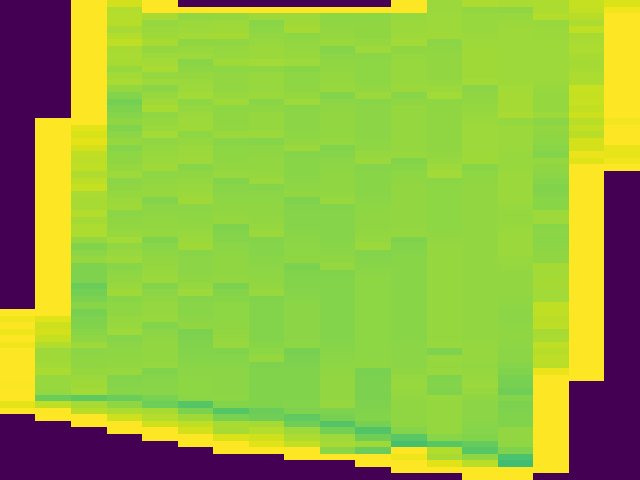cylinder: (4, 2, 640, 480)
